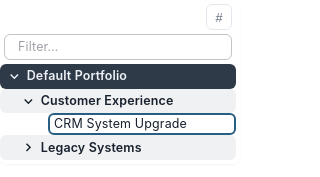
Test: HierarchyTree filtering › clear button erases the filter and restores the full tree
Expected: the text "Customer Experience" is shown, [41, 92, 174, 110]
Step 1. Type "crm" into the field with placeholder "Filter…" → (118, 47), box [4, 34, 232, 60]
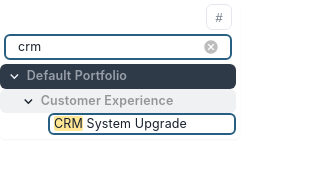
Expected: the text "Legacy Systems" is gone
Step 2. Click the button named "clear filter" → (211, 47), box [201, 37, 221, 57]
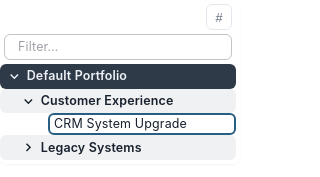
Expected: the field with placeholder "Filter…" is empty, [4, 34, 232, 60]
Expected: the text "Legacy Systems" is shown, [41, 139, 142, 156]
